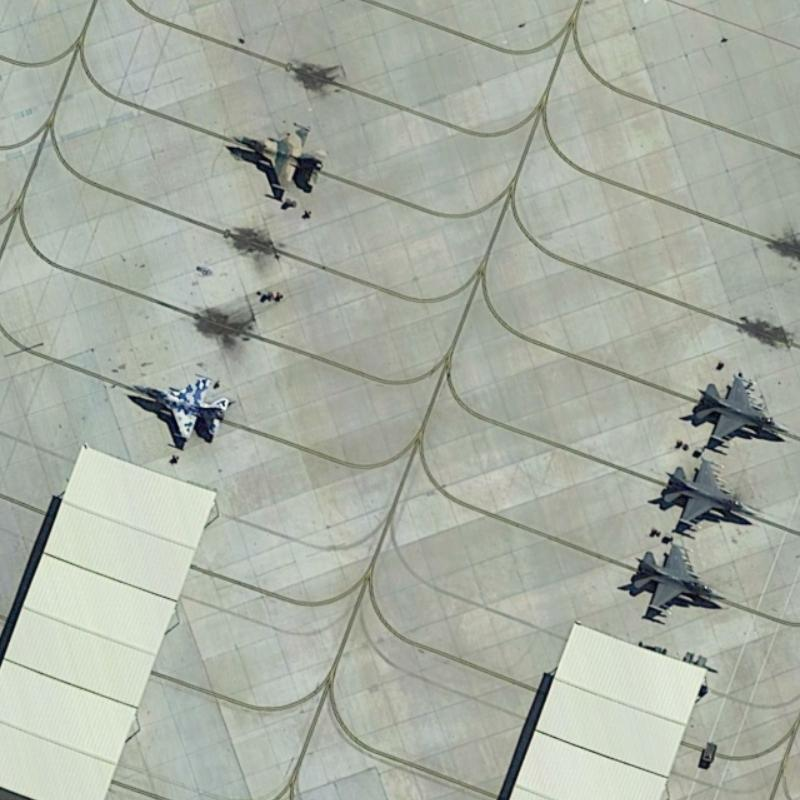A5: (680, 363, 793, 460), (615, 532, 729, 627), (649, 449, 761, 538), (119, 365, 236, 448), (229, 118, 334, 202)
